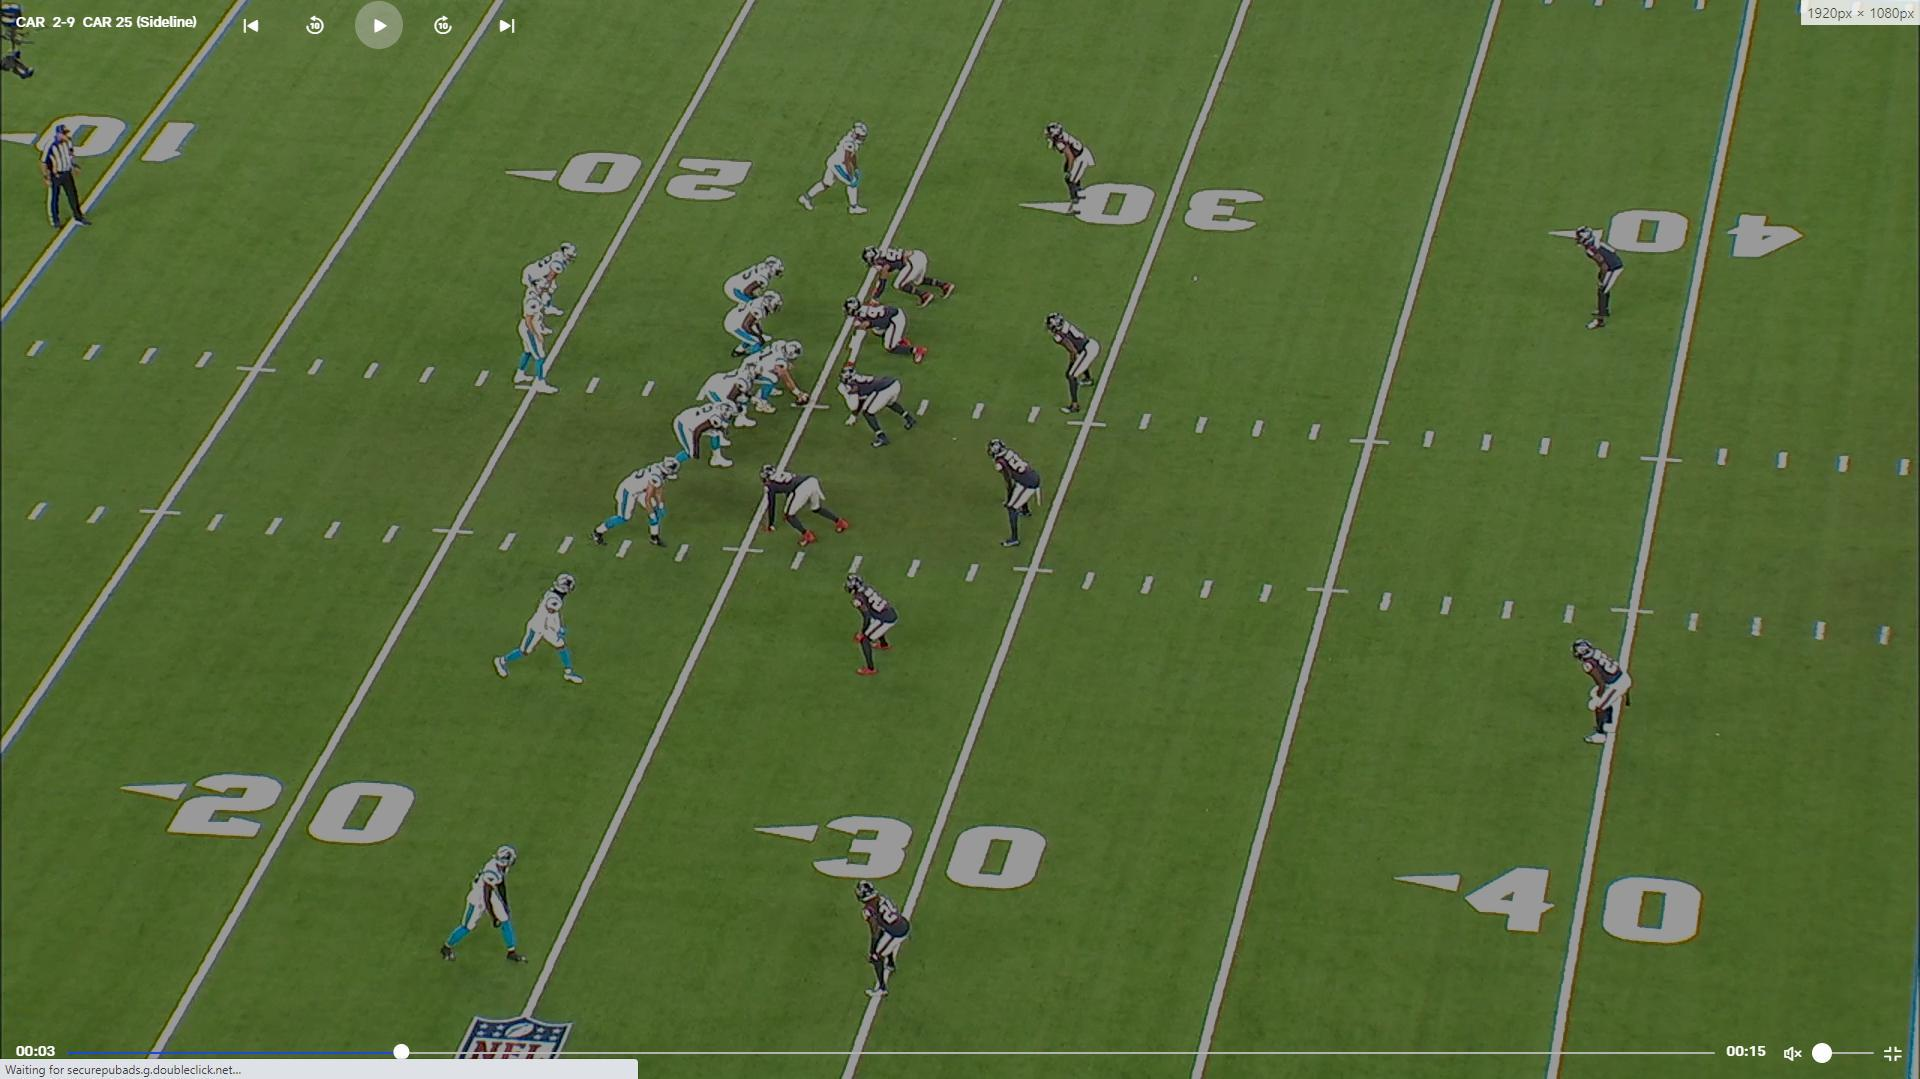center: (759, 342, 809, 406)
db: (1576, 635, 1618, 744), (862, 883, 903, 987), (1577, 230, 1619, 326), (851, 579, 891, 674), (1051, 128, 1093, 201)
lb: (990, 438, 1039, 535), (1047, 314, 1096, 402)
qb: (528, 281, 561, 386)
skill: (449, 842, 520, 949), (816, 122, 876, 215), (521, 576, 575, 663), (608, 458, 667, 530), (529, 242, 577, 289)
